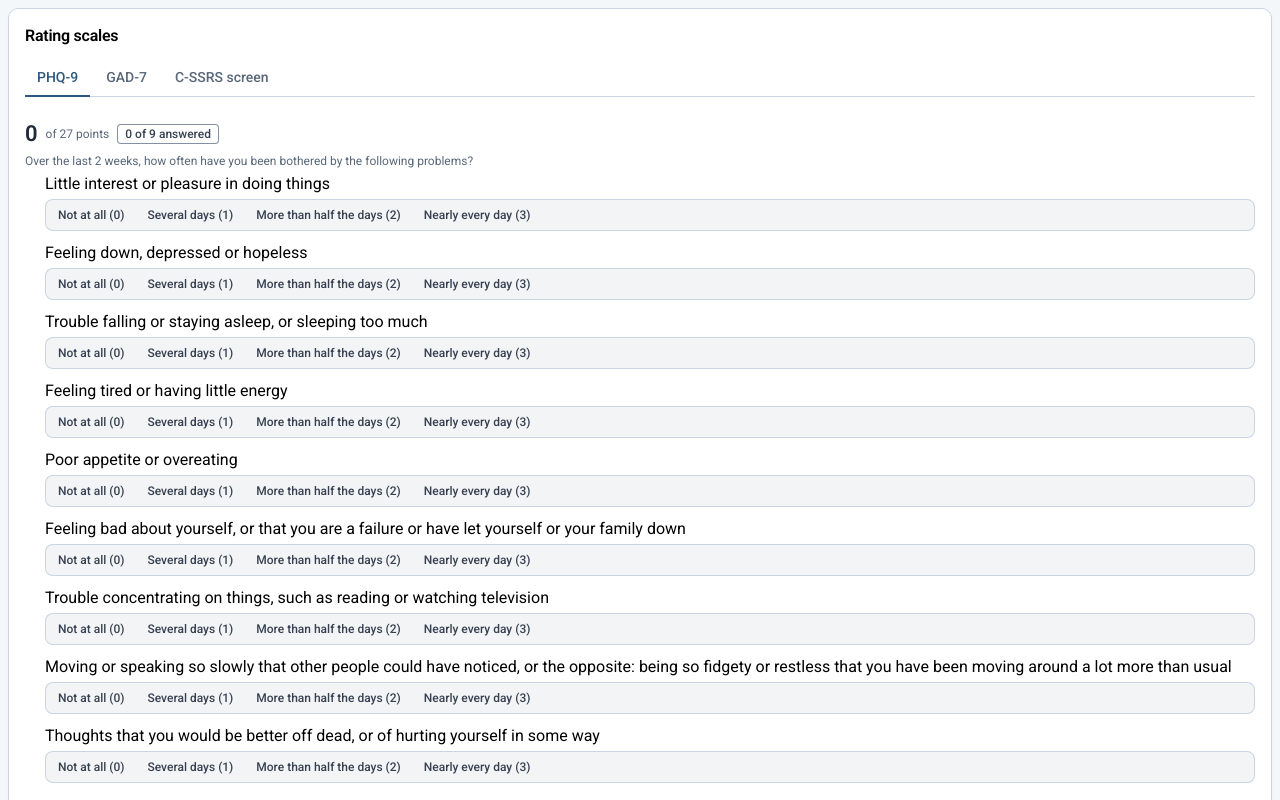
Test: PsychRatingScales › lists the nine PHQ-9 items as named radio groups and scores live
The width and height of the screenshot is (1280, 800).
Expected: the element named "Little interest or pleasure in doing things" is shown, [45,199,1255,231]
Expected: the element named "Feeling down, depressed or hopeless" is shown, [45,268,1255,300]
Click the 1st radio button labelled "Nearly every day (3)": coordinates (477, 215) [414,202,540,228]
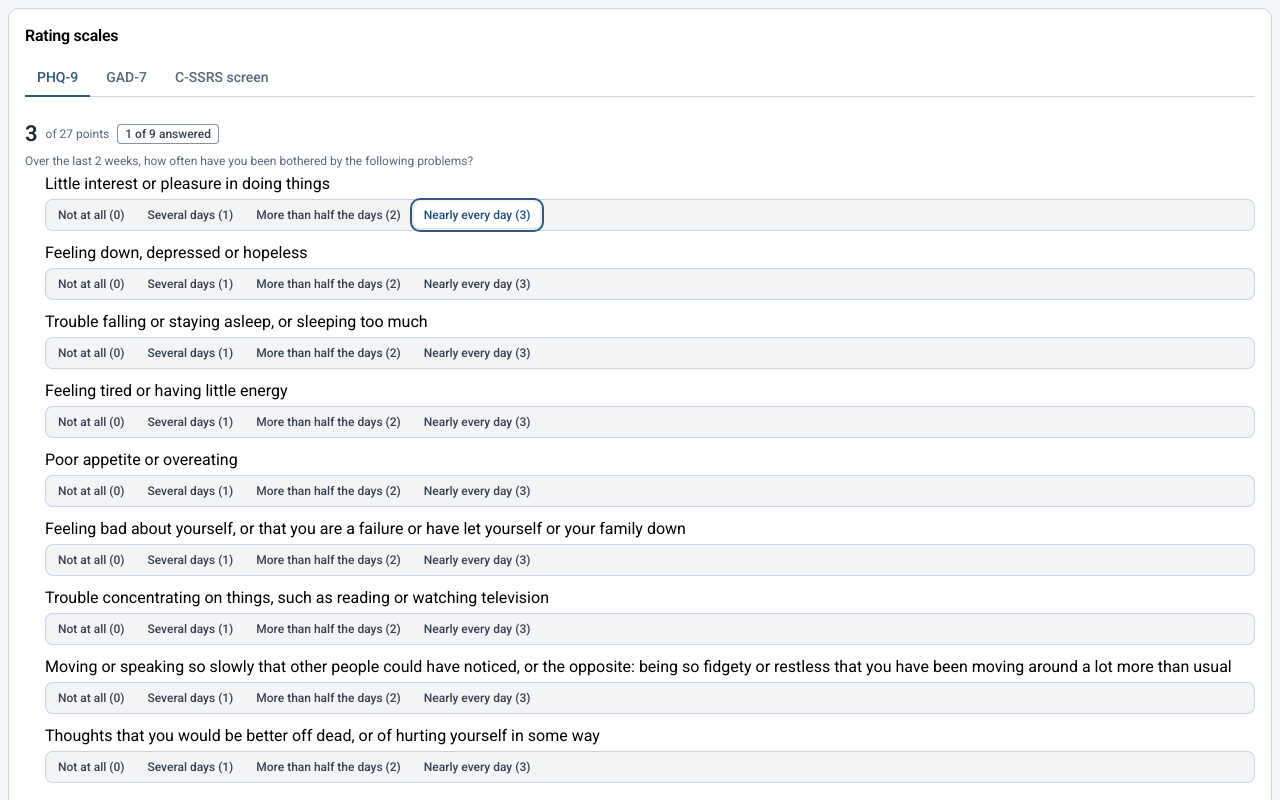
Result: the text "1 of 9 answered" is shown at [117,124,219,144]
